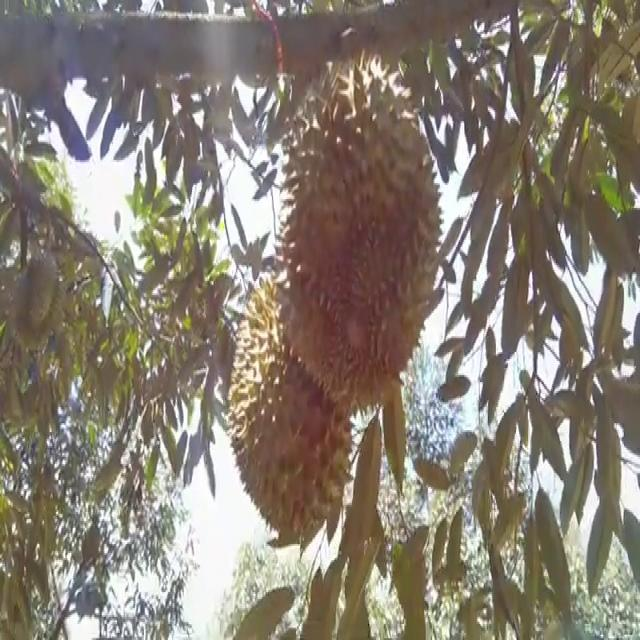durian: (270, 103, 444, 420), (225, 266, 359, 550), (10, 245, 66, 358)
